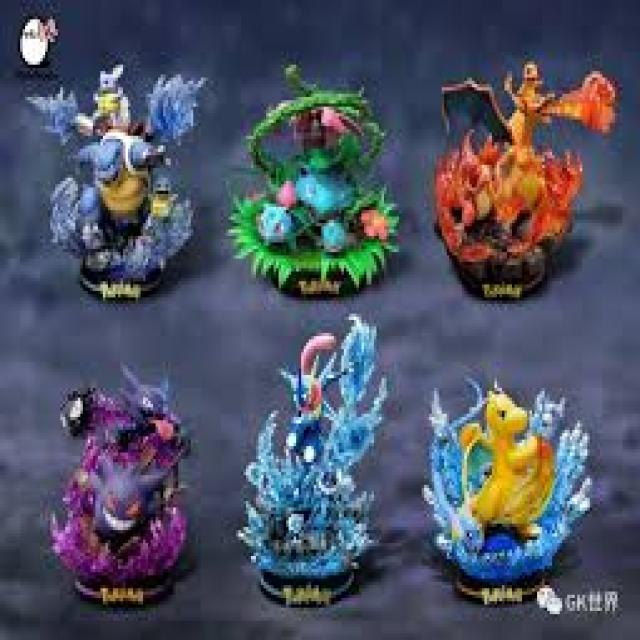Blastoise: (71, 116, 178, 248)
Charizard: (460, 84, 570, 241)
Dragonite: (465, 385, 552, 526)
Gengar: (88, 453, 168, 554)
Haunter: (102, 362, 192, 450)
Venusaur: (249, 119, 359, 252)
